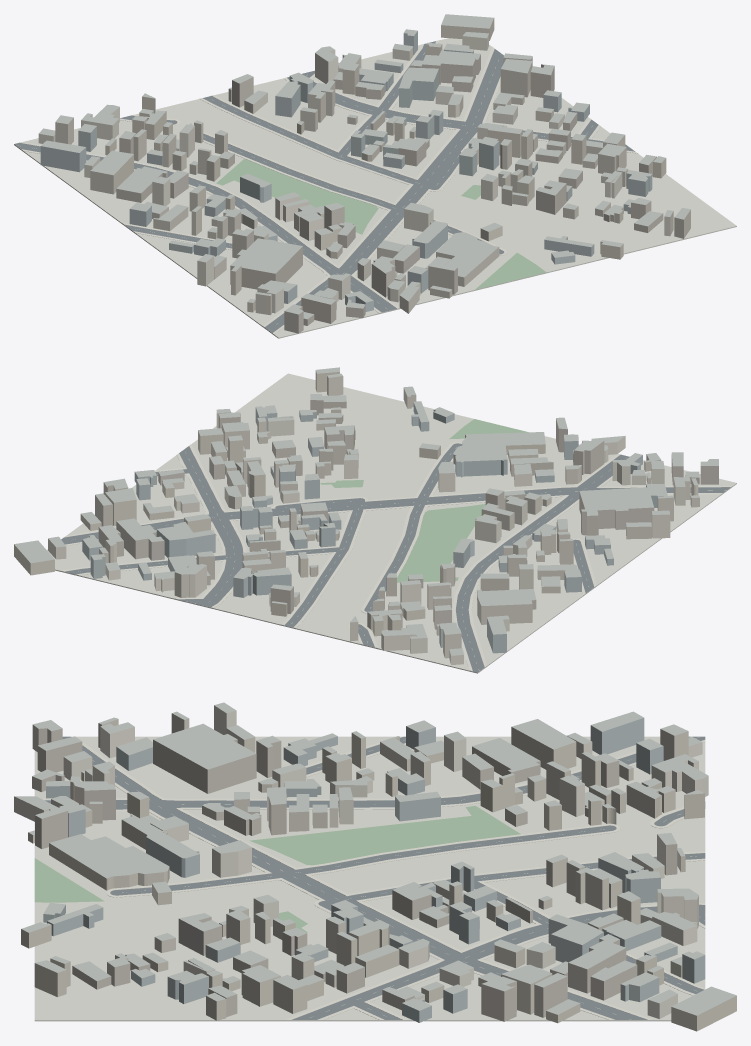
The picture shows the model from 3 angles, top to bottom: view 1: azimuth 30°, elevation 25°; view 2: azimuth 150°, elevation 25°; view 3: azimuth 270°, elevation 25°; orthographic projection. The views are drawn at different scales.
Visible parts, largest first — view 1: city; view 2: city; view 3: city.
Part boxes in pixels (x1,y1,x2,y2): city: [14, 14, 736, 338]; city: [14, 367, 736, 673]; city: [14, 702, 736, 1031].
Bounding box in the file's own units: 527 × 26 × 539.
